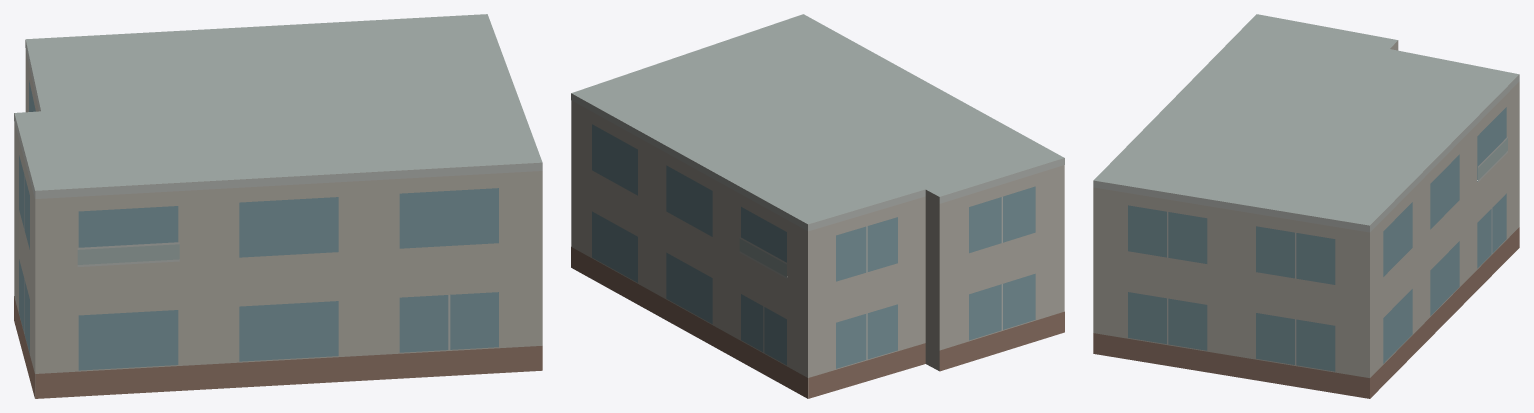
File: survey-upis-32717905.glb
The picture shows the model from 3 angles, left to right: view 1: azimuth 30°, elevation 25°; view 2: azimuth 150°, elevation 25°; view 3: azimuth 270°, elevation 25°; orthographic projection. The views are drawn at different scales.
Parts seen in each view (by area): view 1: survey-upis-32717905.tmp; view 2: survey-upis-32717905.tmp; view 3: survey-upis-32717905.tmp.
Boxes of the visible parts, x1,y1,x2,y2 form: survey-upis-32717905.tmp: (14,14,542,398); survey-upis-32717905.tmp: (571,14,1064,398); survey-upis-32717905.tmp: (1093,14,1519,398).
Size of the model in its own units: 15.98 by 6.1 by 13.61.
